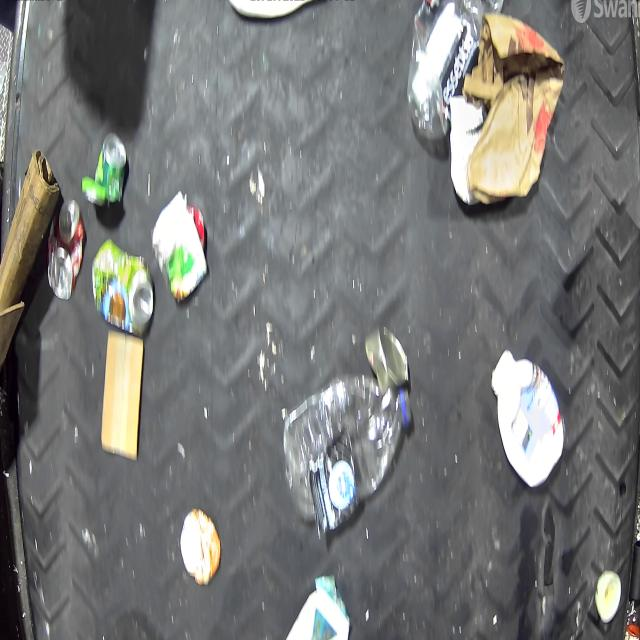can: (93, 239, 155, 337), (46, 198, 85, 298), (367, 324, 409, 398), (90, 134, 128, 210)
plastic_bottle: (281, 373, 411, 537), (406, 0, 482, 139)
